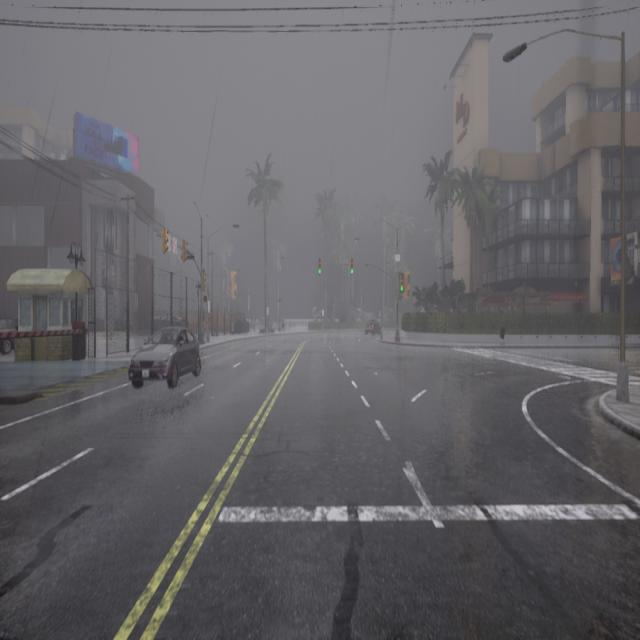6: (163, 228, 170, 240), (179, 238, 187, 248), (200, 270, 208, 278)
9: (399, 269, 410, 299), (179, 235, 187, 258), (162, 229, 170, 251), (200, 268, 206, 290), (349, 255, 354, 277), (316, 256, 322, 274)
bien_hieu_lenh: (348, 266, 356, 278), (399, 284, 405, 293), (316, 268, 324, 274)
